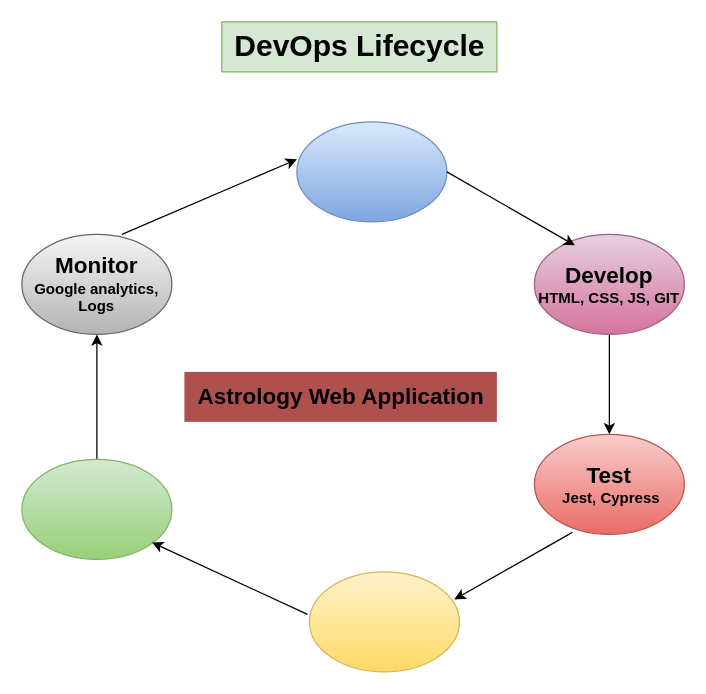
The diagram is 706 pixels wide and 694 high, and some of its shapes have lost their labels. Each missing label, with the centre of its shape:
"Deploy GitHub Pages" goes at point (96, 508).
"Plan Trello, GitHub projects" goes at point (371, 171).
"Release GitHub, CI/CD pipeline" goes at point (383, 621).
